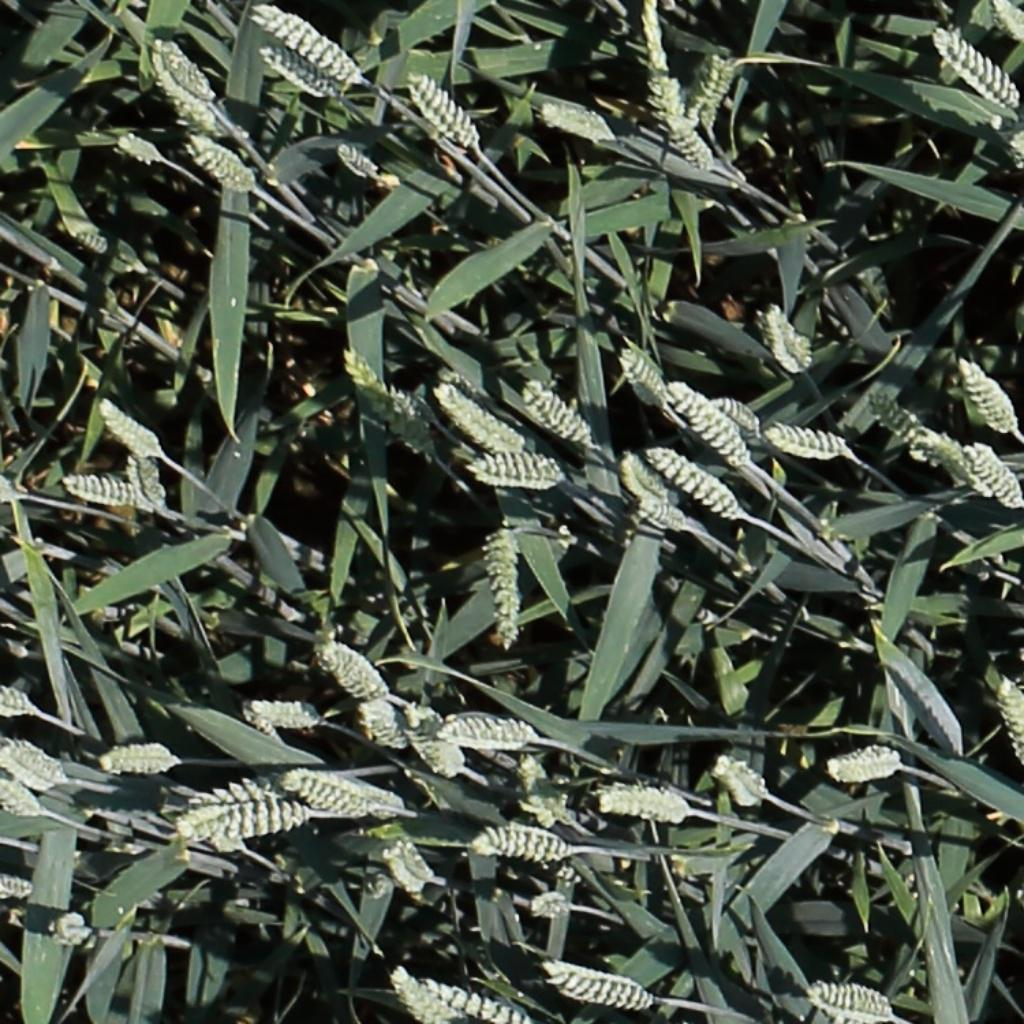0-0: (169, 767, 327, 842), (341, 346, 434, 451), (251, 4, 363, 84), (667, 378, 752, 469), (932, 25, 1019, 109), (647, 446, 745, 520), (872, 391, 959, 468), (434, 382, 522, 453), (408, 70, 483, 150), (953, 350, 1021, 438), (490, 518, 533, 653), (640, 2, 682, 133), (544, 959, 651, 1010), (146, 39, 215, 113), (471, 452, 575, 499), (402, 705, 465, 782), (524, 379, 595, 447), (963, 436, 1024, 512), (303, 775, 397, 822), (92, 743, 201, 782), (428, 981, 527, 1022), (663, 106, 720, 177), (320, 643, 390, 700), (471, 823, 576, 861), (96, 397, 161, 458), (259, 43, 335, 95), (187, 132, 256, 189), (390, 963, 454, 1024), (763, 297, 812, 376), (830, 728, 901, 778), (696, 49, 737, 133), (619, 447, 674, 509), (618, 342, 671, 405), (60, 475, 158, 509), (124, 446, 169, 516), (441, 712, 538, 744), (712, 757, 771, 809), (993, 674, 1024, 772), (359, 699, 412, 755), (382, 841, 431, 901), (390, 835, 439, 894), (0, 746, 64, 790), (765, 425, 851, 456), (334, 137, 394, 181), (809, 988, 897, 1017), (539, 102, 614, 136), (0, 759, 39, 821), (597, 785, 689, 809), (634, 495, 690, 532), (241, 700, 282, 745), (988, 0, 1024, 50), (715, 397, 764, 431), (517, 749, 543, 811), (249, 701, 318, 724), (116, 131, 162, 161), (0, 679, 35, 715), (72, 226, 111, 251), (0, 873, 36, 898), (0, 476, 17, 499)
